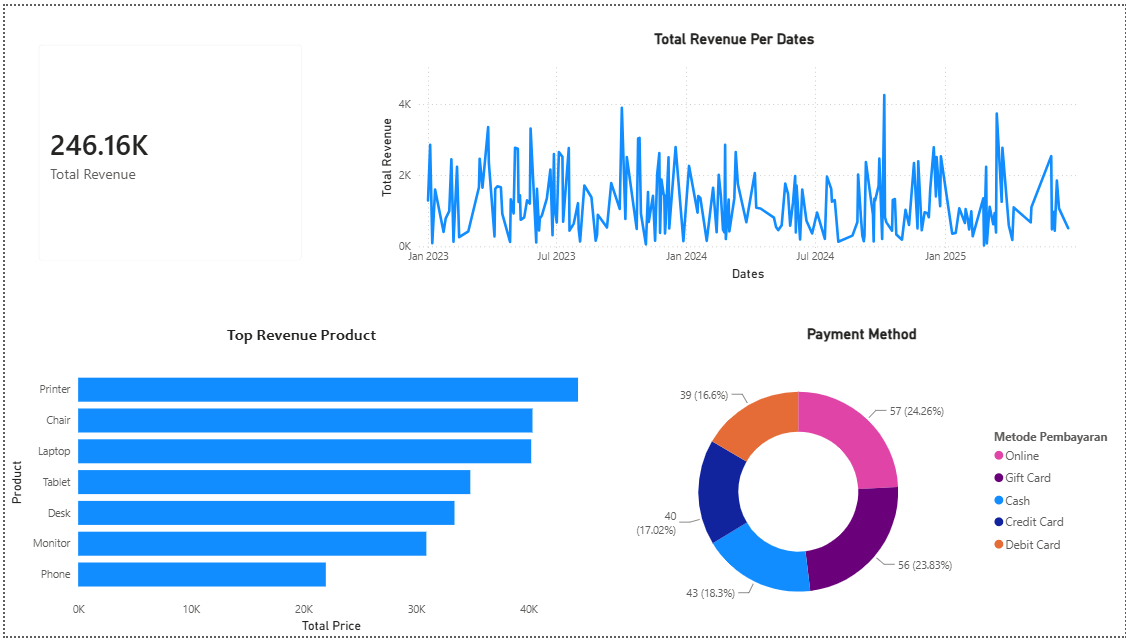

What the dashboard file says about the page in this screenshot:
{"tool":"powerbi","page":{"name":"Page 1","canvas":[1280,720],"ordinal":0},"visuals":[{"type":"cardVisual","fields":{"Data":["Sum(master_shipped_order.TotalPrice)"]},"box":[21.4,27.1,335.7,281.4],"z":0},{"type":"lineChart","title":"Total Revenue Per Dates","fields":{"Y":["Sum(master_shipped_order.TotalPrice)"],"Category":["master_shipped_order.Dates"]},"box":[422.9,27.1,821.4,291.4],"z":1000},{"type":"clusteredBarChart","title":"Top Revenue  Product","fields":{"Category":["master_shipped_order.Product"],"Y":["Sum(master_shipped_order.TotalPrice)"]},"box":[0,364.3,677.9,356.8],"z":2000},{"type":"donutChart","title":"Payment Method","fields":{"Category":["master_shipped_order.PaymentMethod"],"Y":["CountNonNull(master_shipped_order.OrderID)"]},"box":[678.6,364.3,601.4,351.4],"z":3000}]}

Visuals, with their boxes in screenshot pixels (x1, y1, x2, y2), scaled from the page's 1280x720 canvas onto the 1126x641 screenshot:
cardVisual - Sum(master_shipped_order.TotalPrice): {"left": 19, "top": 24, "right": 314, "bottom": 275}
"Total Revenue Per Dates" lineChart: {"left": 372, "top": 24, "right": 1095, "bottom": 284}
"Top Revenue  Product" clusteredBarChart: {"left": 0, "top": 324, "right": 596, "bottom": 640}
"Payment Method" donutChart: {"left": 597, "top": 324, "right": 1125, "bottom": 637}
